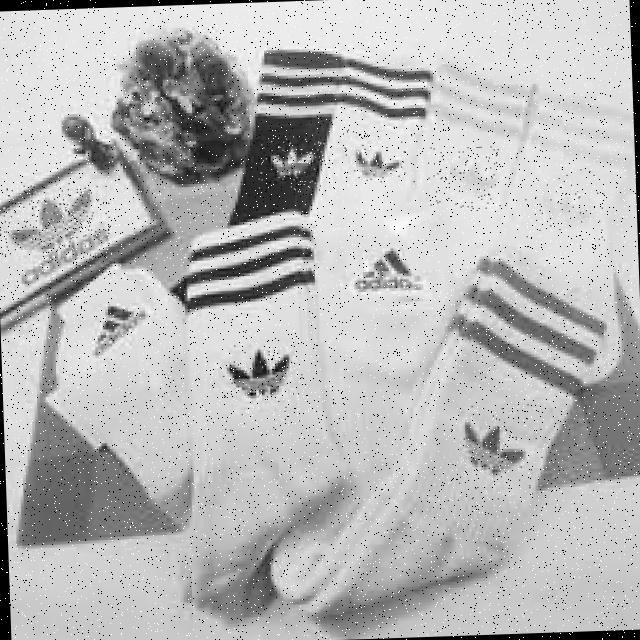Adidas: (444, 403, 550, 506), (0, 181, 112, 262), (524, 158, 607, 252), (220, 342, 305, 431), (427, 145, 500, 213), (341, 125, 420, 185), (256, 134, 326, 193)
